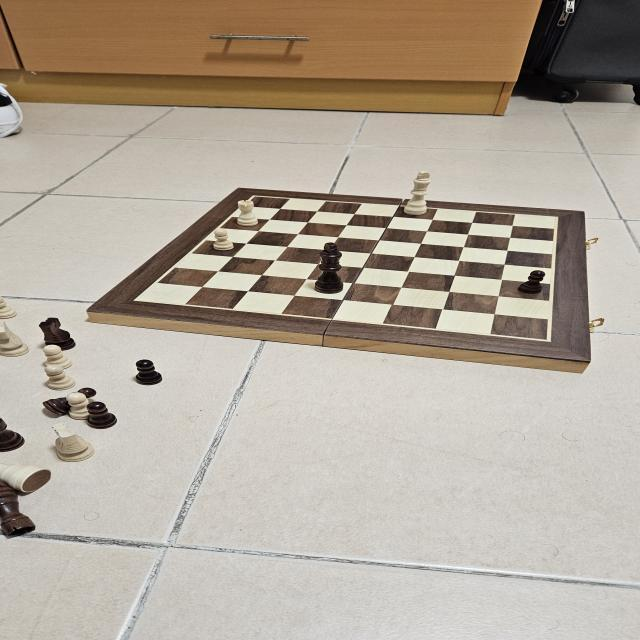chess-table-corners: (540, 336, 556, 344), (130, 298, 145, 302), (551, 216, 564, 220), (250, 194, 258, 198)
